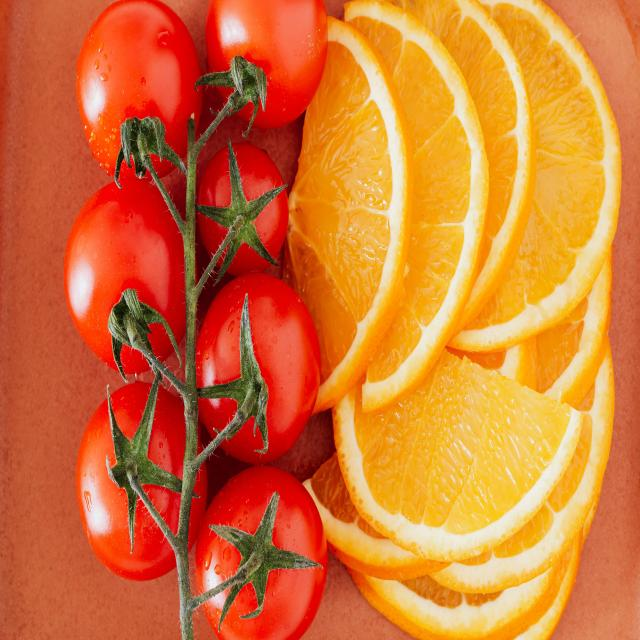Tomato: (198, 468, 336, 640), (61, 394, 198, 564), (68, 187, 182, 388), (198, 279, 314, 459), (77, 12, 196, 178)
